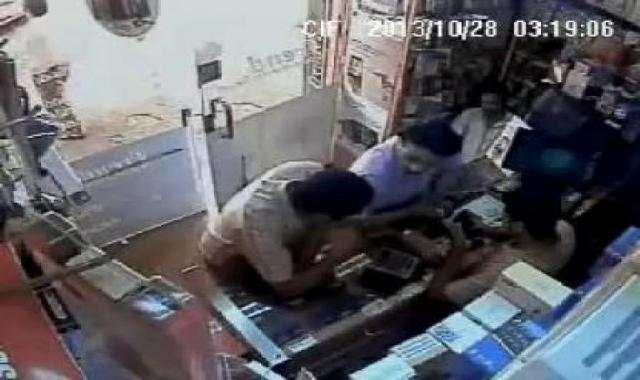no_hairnet: (288, 168, 376, 217), (396, 121, 471, 169)
